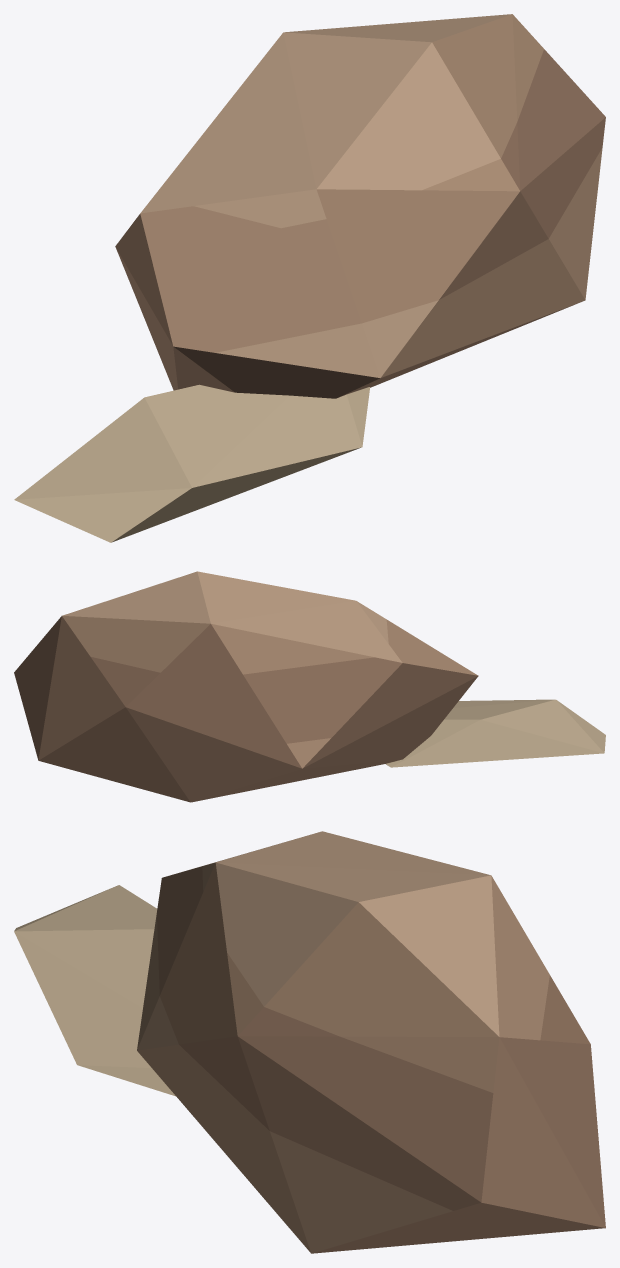
Rendered from prop_desert_stone_0.glb.
3 views of the same model, one above another, from view 1: azimuth 30°, elevation 25°; view 2: azimuth 150°, elevation 25°; view 3: azimuth 270°, elevation 25° (orthographic). The views are drawn at different scales.
Parts seen in each view (by area): view 1: Body; view 2: Body; view 3: Body.
Boxes of the visible parts, x1=… form: Body: x1=14, y1=14, x2=605, y2=542; Body: x1=14, y1=571, x2=605, y2=802; Body: x1=14, y1=831, x2=605, y2=1253.
Size of the model in its own units: 1.4 by 0.4763 by 0.8964.
